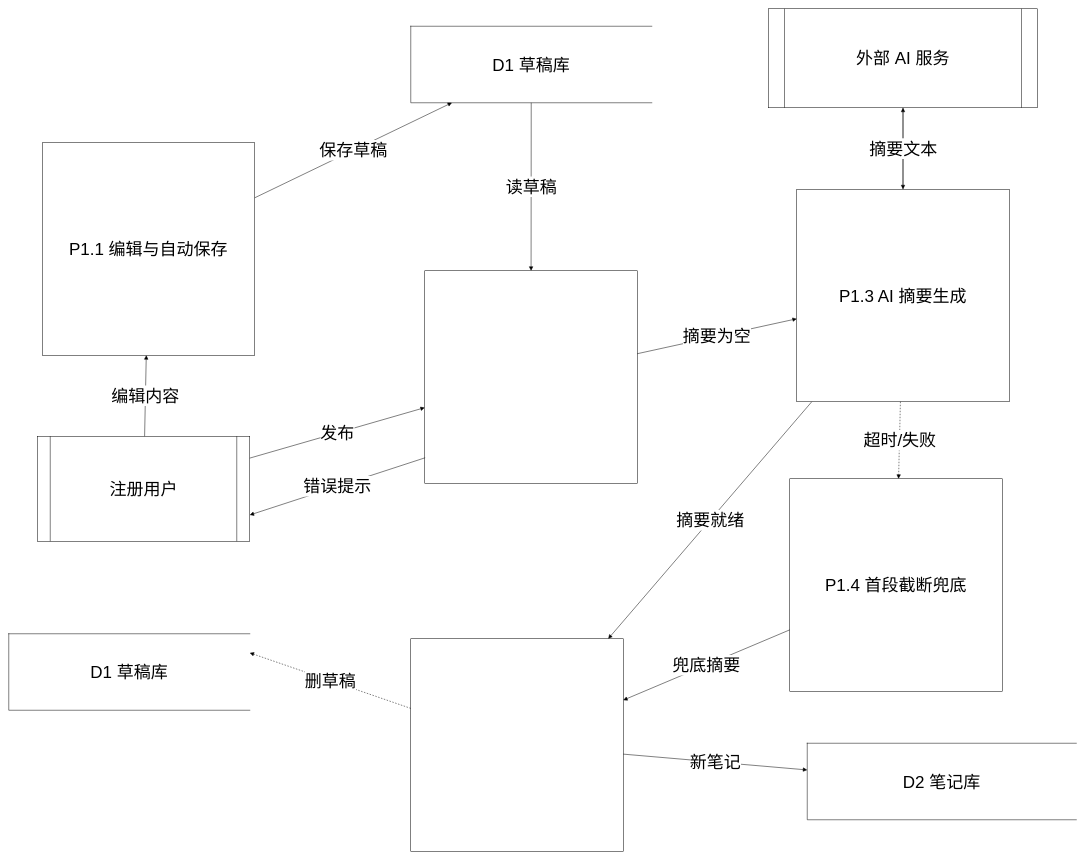
This 1085x860 diagram has some shape labels left out. Each missing label, with the box of its shape:
P1.2 发布前校验: (424, 270, 637, 483)
P1.5 创建笔记并删草稿: (410, 638, 623, 851)
